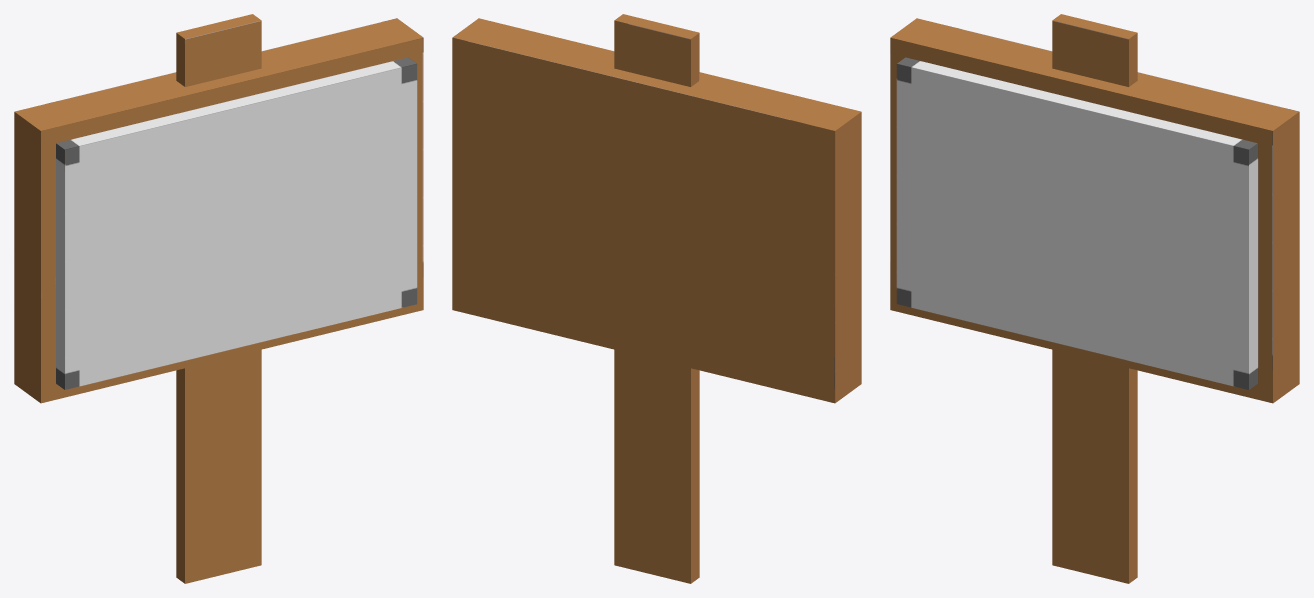
File: kanban.glb
The picture shows the model from 3 angles, left to right: view 1: azimuth 30°, elevation 25°; view 2: azimuth 150°, elevation 25°; view 3: azimuth 330°, elevation 25°; orthographic projection.
Parts seen in each view (by area): view 1: kanban; view 2: kanban; view 3: kanban.
Boxes of the visible parts, x1,y1,x2,y2 form: kanban: [14, 14, 423, 583]; kanban: [452, 14, 861, 583]; kanban: [890, 14, 1299, 583].
Bounding box in the file's own units: 0.5 × 0.68 × 0.08.
1 material, 1 textured.
